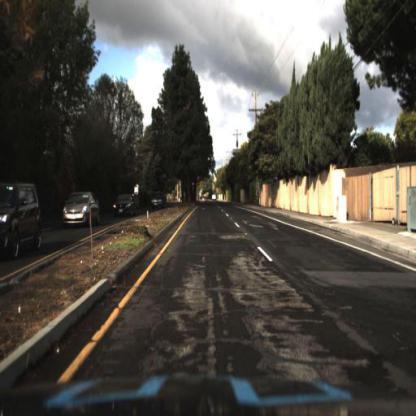car: (2, 182, 46, 264), (59, 185, 103, 234), (62, 194, 98, 230), (111, 186, 140, 221), (115, 195, 136, 220), (151, 191, 168, 212)
